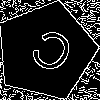C: (21, 26, 78, 84)
